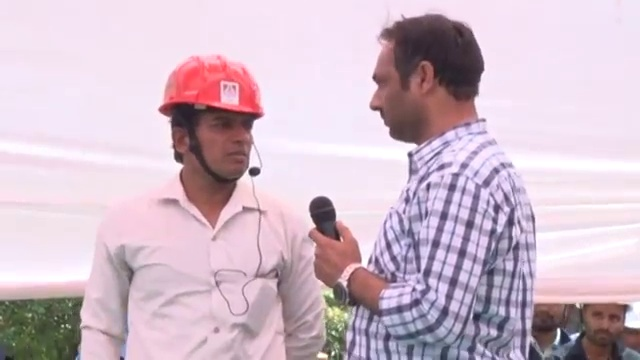helmet: (159, 57, 269, 122)
helmet_off: (371, 17, 481, 150), (577, 302, 631, 344), (527, 302, 567, 339)
helmet_on: (158, 56, 269, 182)
person: (307, 12, 536, 357), (75, 55, 328, 360), (550, 300, 637, 357), (519, 296, 571, 359)
